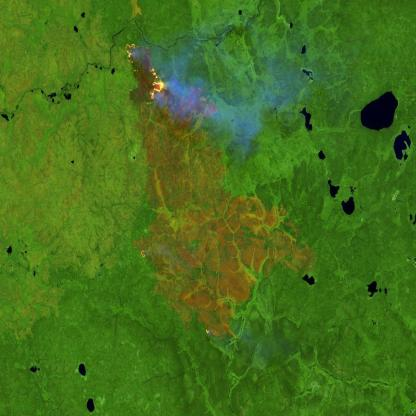fire: (122, 42, 171, 106)
